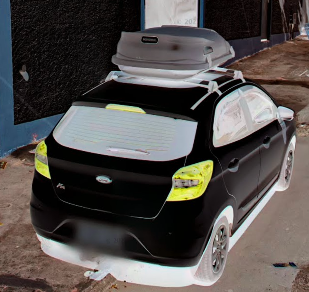car: (29, 79, 296, 286)
